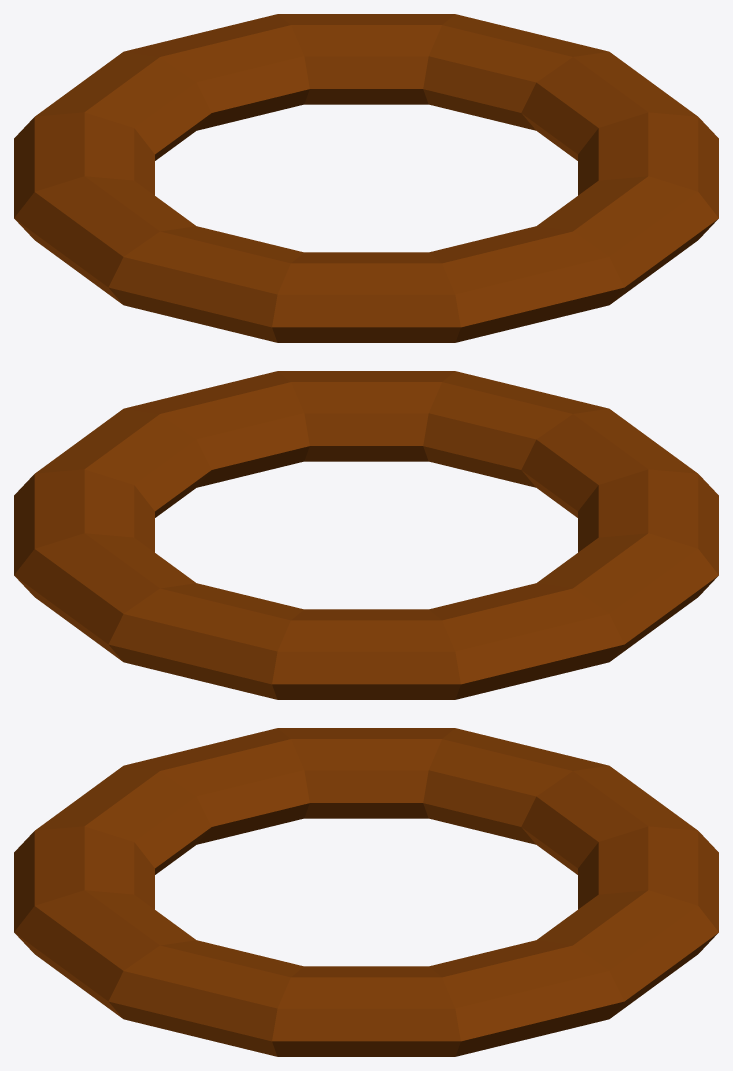
File: volcano.fbx
3 renders of one model, top to bottom at view 1: azimuth 30°, elevation 25°; view 2: azimuth 150°, elevation 25°; view 3: azimuth 270°, elevation 25°, orthographic.
Parts seen in each view (by area): view 1: torus; view 2: torus; view 3: torus.
Boxes of the visible parts, left/top/right/bottom form: torus: left=14, top=14, right=718, bottom=342; torus: left=14, top=371, right=718, bottom=699; torus: left=14, top=728, right=718, bottom=1056.
Size of the model in its own units: 125 by 13.38 by 125.
1 material, 1 textured.
